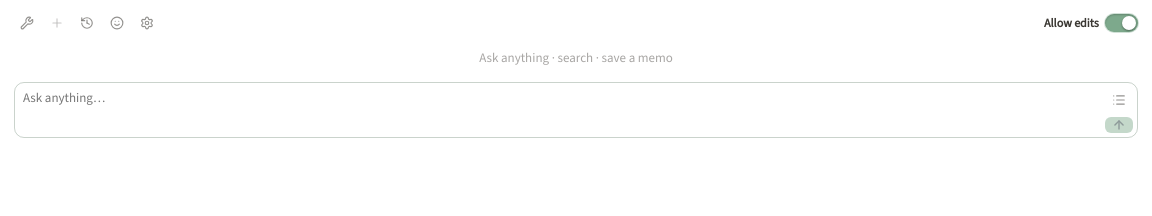
Test: MobileChatView › a provider 429 shows a categorized inline error, is recorded to diag, and Retry resends
The width and height of the screenshot is (1152, 216).
Type "hello" into the text box with placeholder "Ask anything…" at {"x": 560, "y": 110}, box left=15, top=82, right=1105, bottom=136
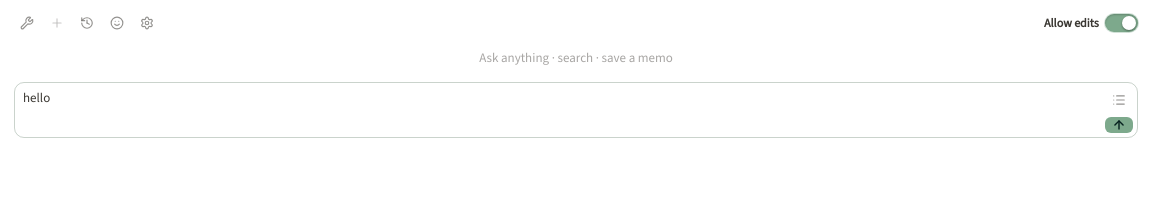
Press Enter in the text box with placeholder "Ask anything…", box left=15, top=82, right=1105, bottom=136
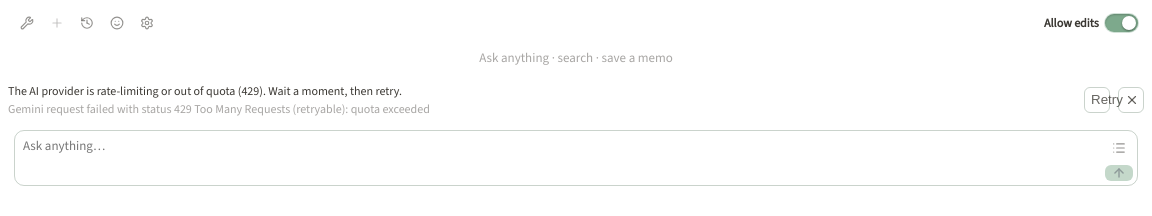
Expected: the message with test id "chat-failure" shows "429", left=8, top=82, right=402, bottom=98
Click the button with test id "chat-failure-retry" at {"x": 1097, "y": 100}, box left=1084, top=86, right=1110, bottom=112
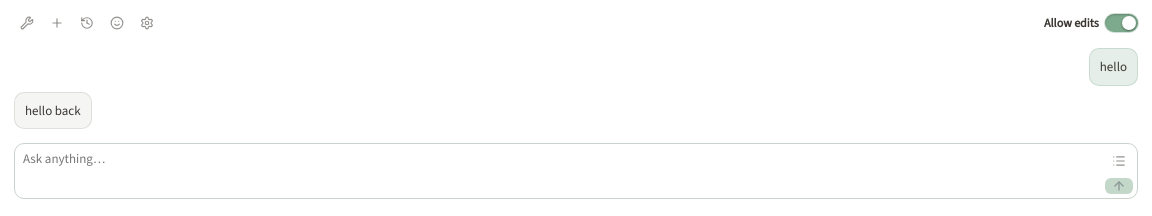
Expected: the message with test id "chat-failure" is gone
Expected: the text "hello back" is shown, left=25, top=102, right=81, bottom=118
